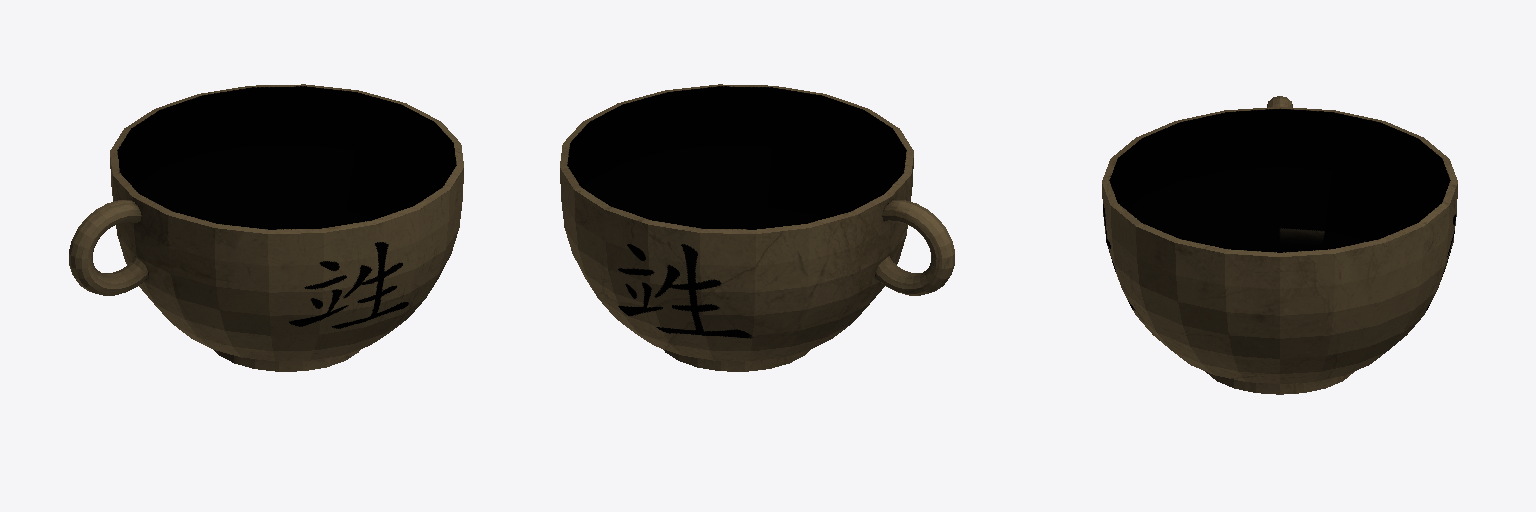
The picture shows the model from 3 angles: view 1: azimuth 30°, elevation 25°; view 2: azimuth 150°, elevation 25°; view 3: azimuth 270°, elevation 25°; orthographic projection.
Parts seen in each view (by area): view 1: Sphere001; view 2: Sphere001; view 3: Sphere001.
Part boxes in pixels (x1,y1,x2,y2): Sphere001: (69,84,463,371); Sphere001: (560,84,954,371); Sphere001: (1102,96,1457,394).
Size of the model in its own units: 32.02 by 14.94 by 26.67.
1 materials, 1 textured.